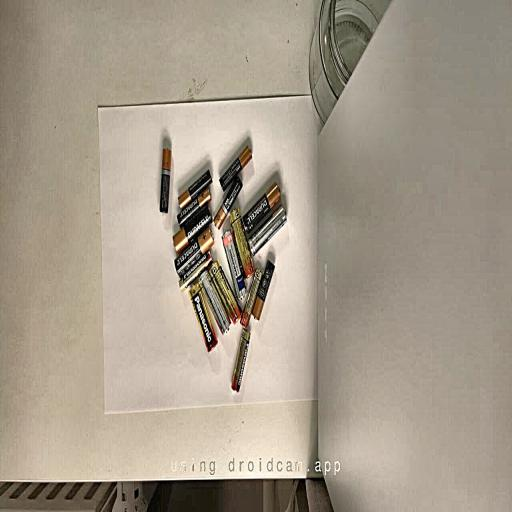DuracellAA: (242, 182, 280, 235), (174, 229, 214, 277), (173, 206, 212, 253)
DuracellAAA: (219, 146, 252, 191), (214, 176, 242, 228), (178, 169, 212, 210), (252, 260, 274, 319), (177, 189, 211, 225), (159, 147, 171, 213)
PanasonicAA: (210, 262, 241, 323), (189, 284, 217, 351), (229, 208, 254, 277)
PanasonicAAA: (180, 252, 211, 291), (241, 270, 261, 328), (232, 328, 250, 392)
RainbowAA: (199, 270, 230, 334), (249, 206, 286, 255), (222, 230, 246, 300)
